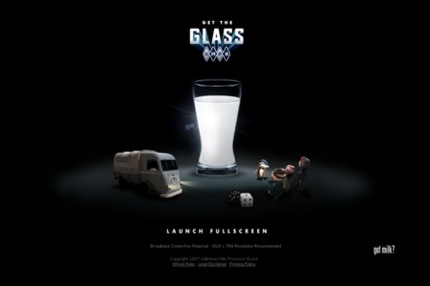glass of milk: (190, 70, 245, 183)
